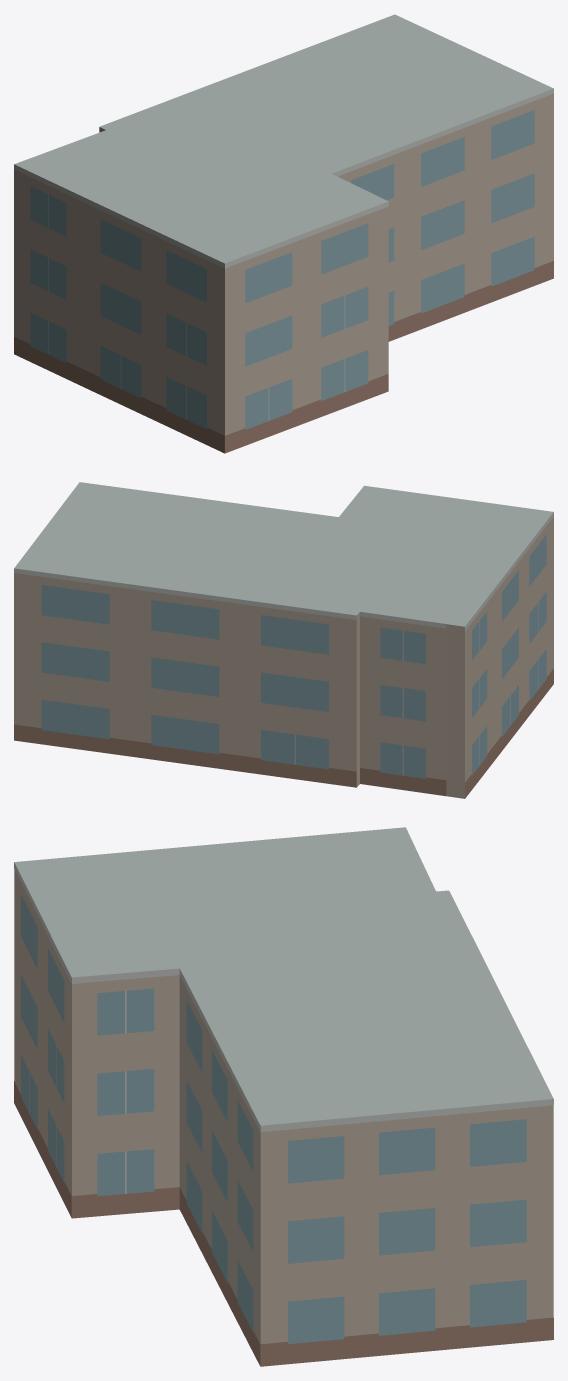
Rendered from survey-upis-32709180.glb.
3 renders of one model, top to bottom at view 1: azimuth 30°, elevation 25°; view 2: azimuth 150°, elevation 25°; view 3: azimuth 270°, elevation 25°, orthographic. The views are drawn at different scales.
Visible parts, largest first — view 1: survey-upis-32709180.tmp; view 2: survey-upis-32709180.tmp; view 3: survey-upis-32709180.tmp.
Part boxes in pixels (bbox=[...]): survey-upis-32709180.tmp: bbox=[14, 14, 553, 453]; survey-upis-32709180.tmp: bbox=[14, 482, 553, 798]; survey-upis-32709180.tmp: bbox=[14, 827, 553, 1366].
Size of the model in its own units: 24.33 by 9.15 by 18.59.
